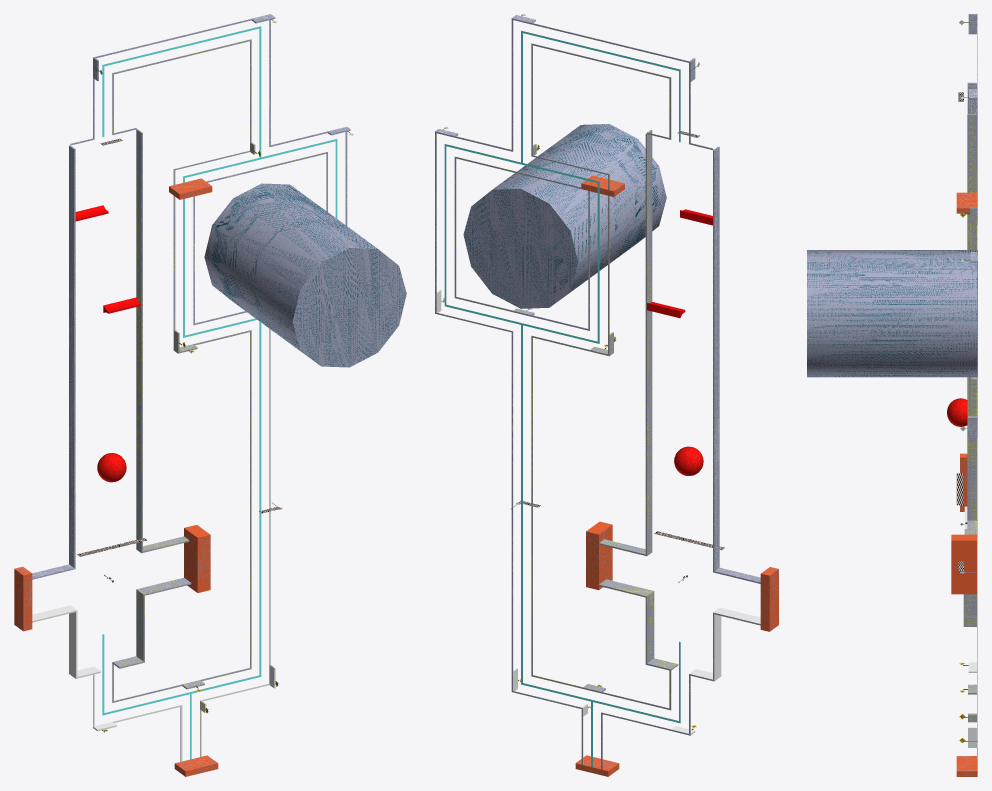
The model's file is map.obj.
The picture shows the model from 3 angles, left to right: view 1: azimuth 30°, elevation 25°; view 2: azimuth 150°, elevation 25°; view 3: azimuth 270°, elevation 25°; orthographic projection. The views are drawn at different scales.
Parts seen in each view (by area): view 1: Mesh54 Model, Mesh55 Model, Mesh56 Model, Mesh58 Model, Mesh57 Model, Mesh5 ball1 Model; view 2: Mesh54 Model, Mesh56 Model, Mesh55 Model, Mesh58 Model, Mesh57 Model, Mesh5 ball1 Model, Mesh2 Group2 Model, Mesh1 Group1 Model; view 3: Mesh54 Model, Mesh55 Model, Mesh56 Model, Mesh5 ball1 Model, Mesh2 Group2 Model, Mesh1 Group1 Model.
Part boxes in pixels (bbox=[...]): Mesh54 Model: bbox=[204, 183, 406, 367]; Mesh55 Model: bbox=[112, 39, 255, 702]; Mesh56 Model: bbox=[14, 14, 350, 761]; Mesh58 Model: bbox=[102, 26, 337, 759]; Mesh57 Model: bbox=[193, 152, 327, 325]; Mesh5 ball1 Model: bbox=[97, 453, 126, 482]; Mesh54 Model: bbox=[463, 124, 666, 308]; Mesh56 Model: bbox=[435, 15, 778, 769]; Mesh55 Model: bbox=[531, 43, 678, 710]; Mesh58 Model: bbox=[444, 30, 680, 767]; Mesh57 Model: bbox=[454, 156, 589, 330]; Mesh5 ball1 Model: bbox=[674, 446, 703, 475]; Mesh2 Group2 Model: bbox=[575, 755, 619, 776]; Mesh1 Group1 Model: bbox=[581, 175, 624, 196]; Mesh54 Model: bbox=[807, 250, 977, 377]; Mesh55 Model: bbox=[951, 114, 976, 694]; Mesh56 Model: bbox=[960, 14, 977, 768]; Mesh5 ball1 Model: bbox=[947, 398, 967, 426]; Mesh2 Group2 Model: bbox=[956, 756, 977, 776]; Mesh1 Group1 Model: bbox=[956, 192, 976, 213].
Bounding box in the file's own units: 13.99 × 29.38 × 6.42.
30 materials, 7 textured.
